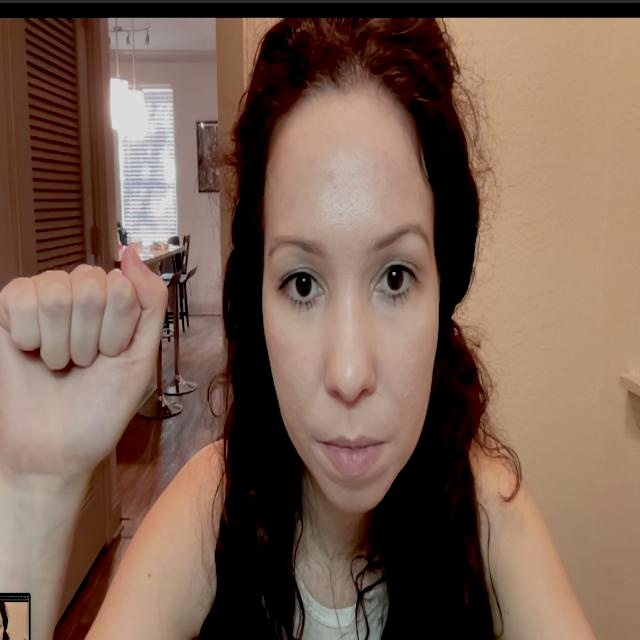Rock: (0, 240, 173, 490)
